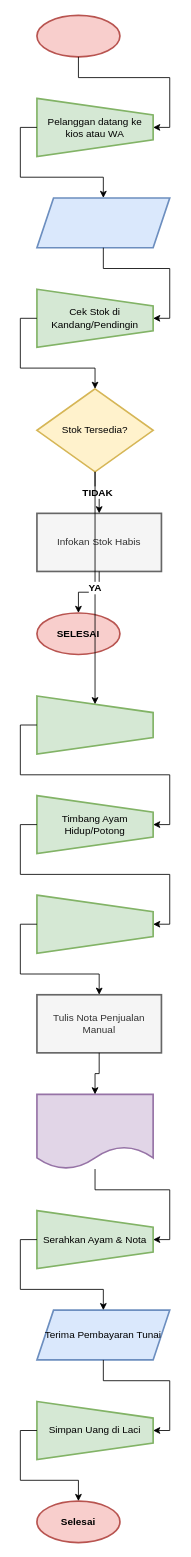
Some shapes in this 191 by 1557 pixel diagram are drawn without their labels. Each missing label, with the centre of its shape:
"MULAI" belongs at point 78,35.
"Nota Penjualan" belongs at point 95,1131.
"Pelanggan Pesan Jumlah & Potongan" belongs at point 95,724.
"Proses Pemotongan & Pencabutan Bulu" belongs at point 95,924.
"Tanya Stok & Harga" belongs at point 103,222.
